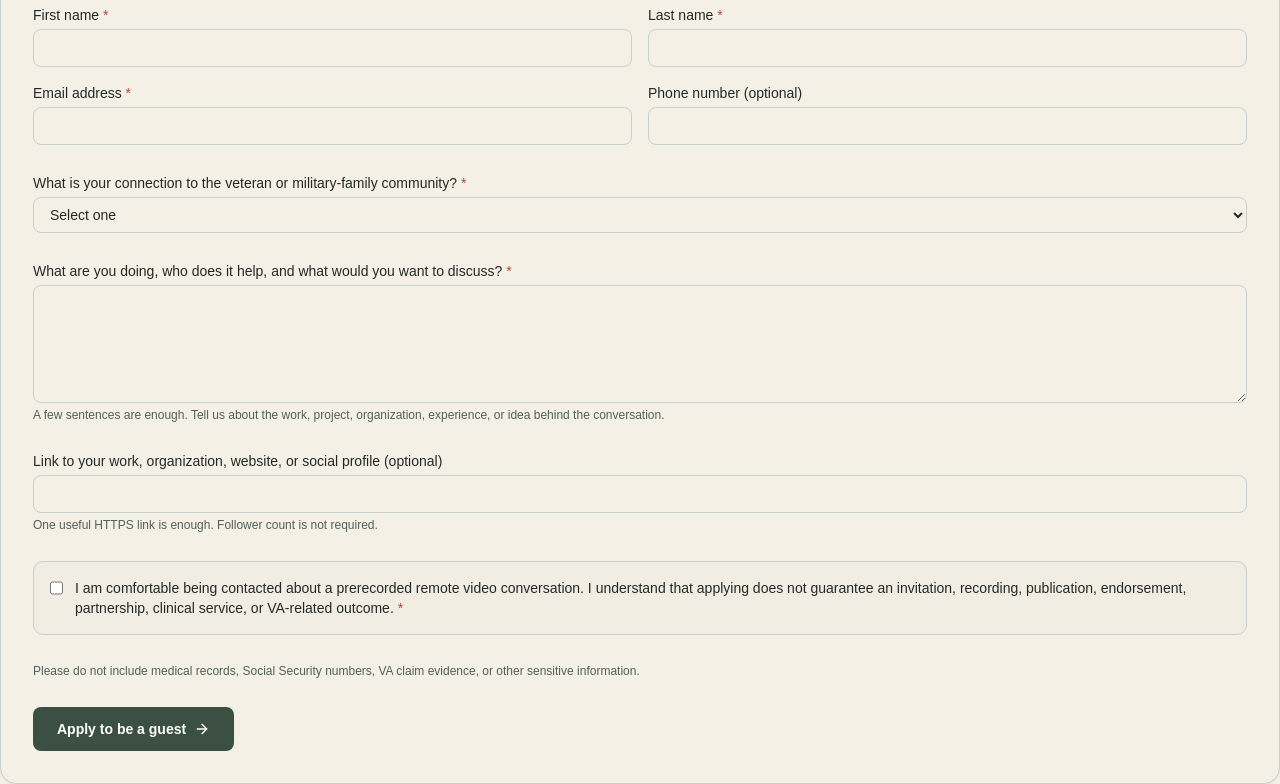
Test case: UnifiedBtyForm › shows client-side validation and does not call the RPC
(page scrolled)
Click the button "Apply to be a guest" at [134, 729], box [33,707,234,751]
(page scrolled)
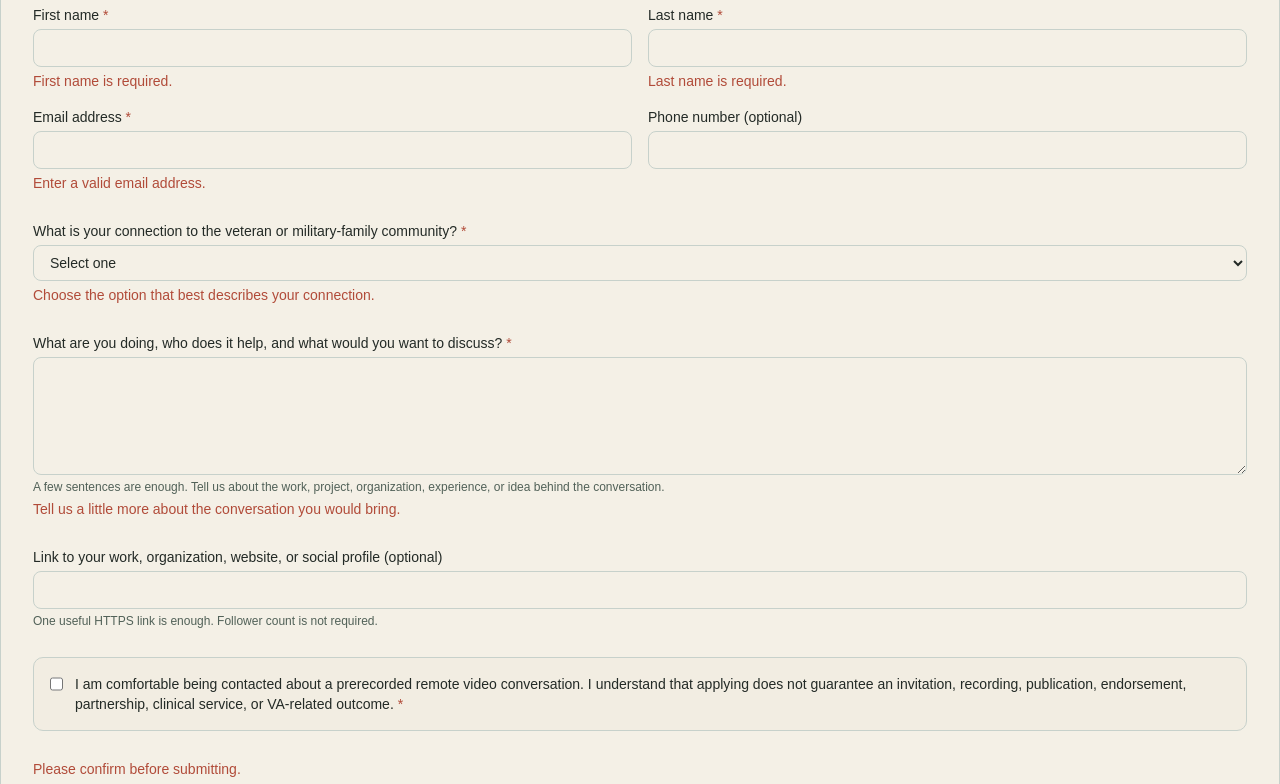
Expected: the text "First name is required." is shown, [33,73,172,89]
